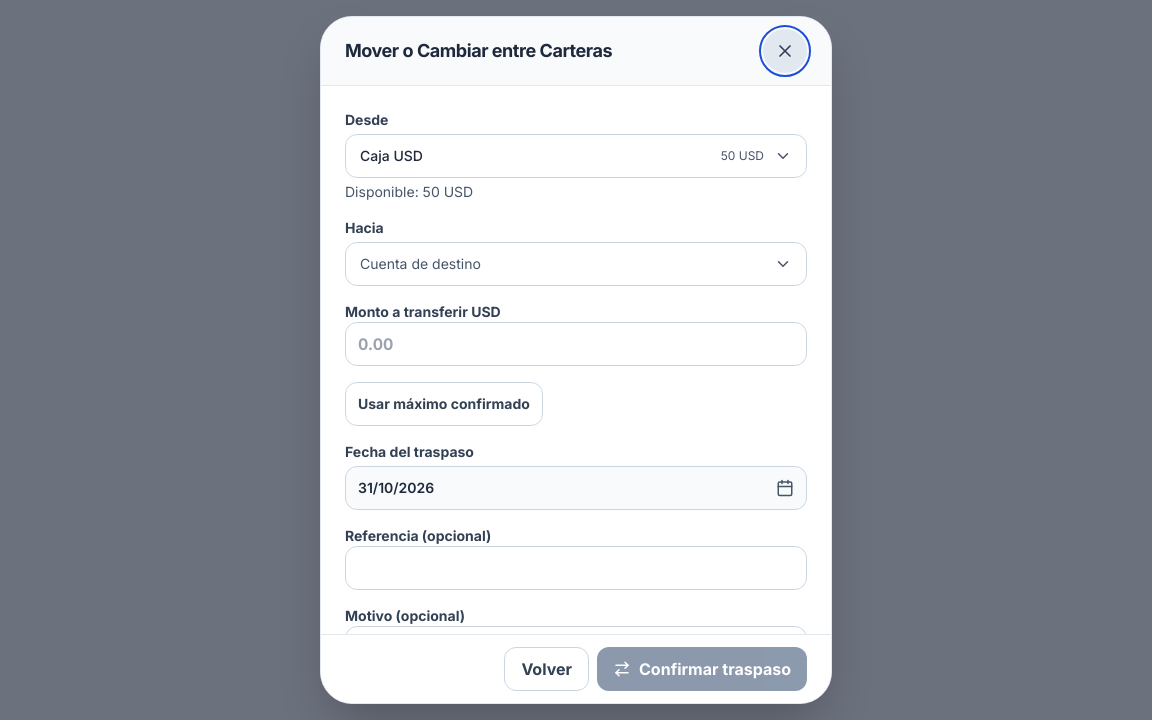
Test case: Traspasos: confirmación única, saldos y unidades › máximo usa unidades nativas y exceso bloquea la confirmación
Click the button "Usar máximo confirmado": (444, 404) [345,382,543,426]
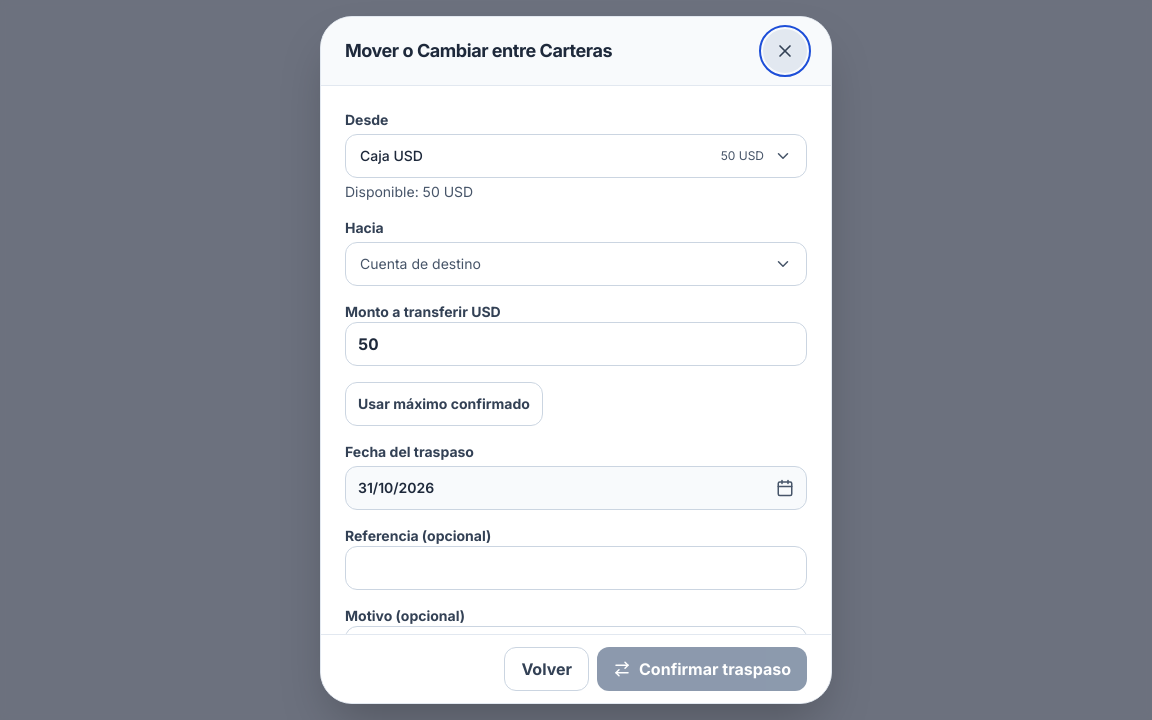
Result: the field with placeholder "0.00" holds "50"
Replace the text in the field with placeholder "0.00" with "51": (576, 344) [345,322,807,366]
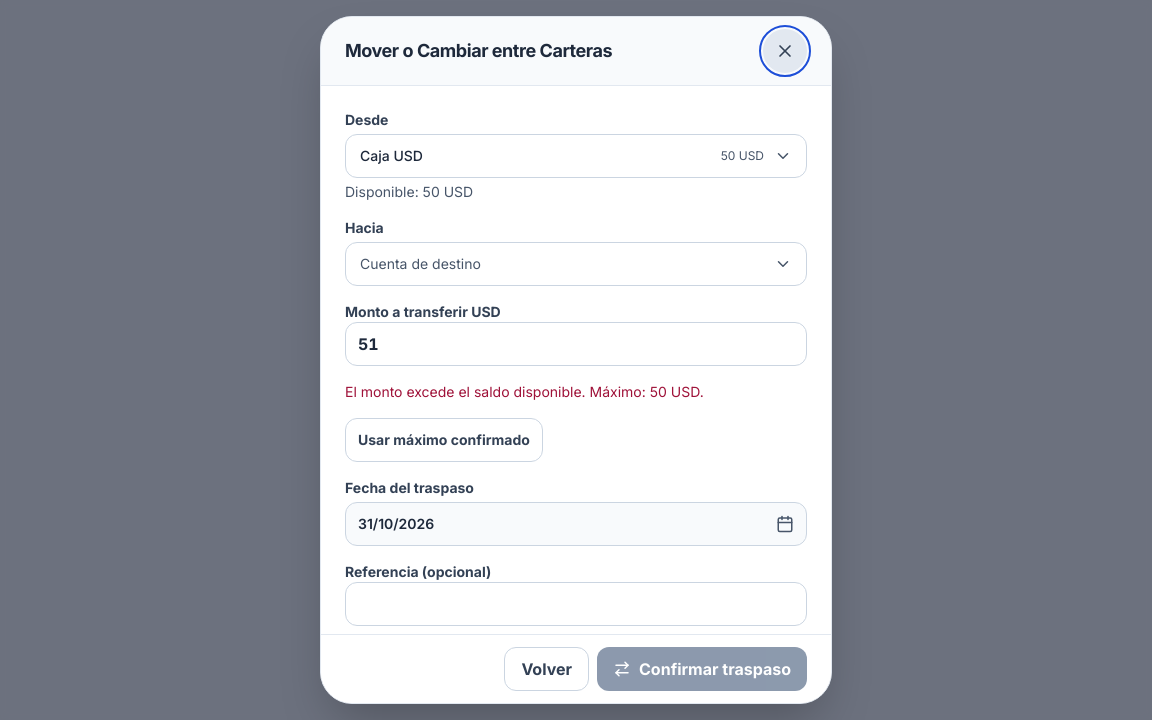
Expected: the button "Confirmar traspaso" is disabled, [597,647,807,691]
Result: the message shows "excede el saldo" at [345,383,650,400]
